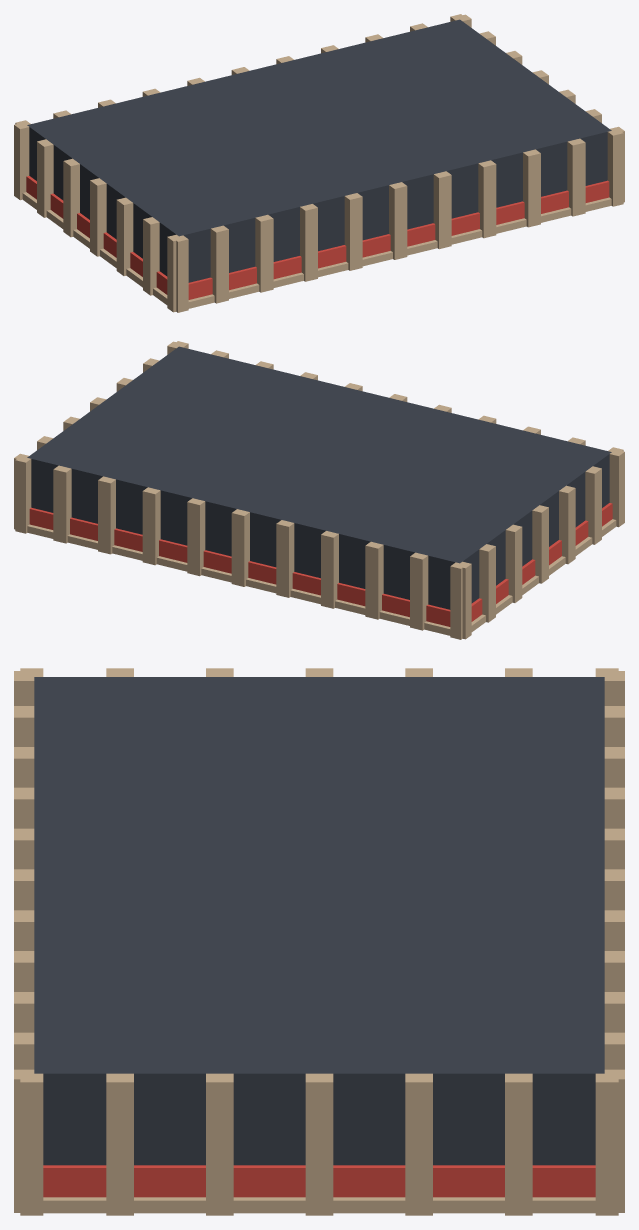
The model's file is tower_stone.glb.
3 renders of one model, top to bottom at view 1: azimuth 30°, elevation 25°; view 2: azimuth 150°, elevation 25°; view 3: azimuth 270°, elevation 25°, orthographic. The views are drawn at different scales.
Visible parts, largest first — view 1: tower_stone; view 2: tower_stone; view 3: tower_stone.
Boxes of the visible parts, box(x1,y1,x2,y2) form: tower_stone: box(14, 14, 624, 312); tower_stone: box(14, 341, 624, 639); tower_stone: box(14, 668, 624, 1215).
Size of the model in its own units: 21.28 by 3.2 by 13.28.
